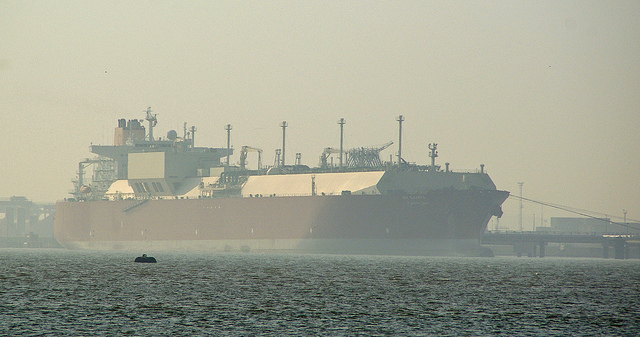LNG_ship: (56, 104, 524, 258)
